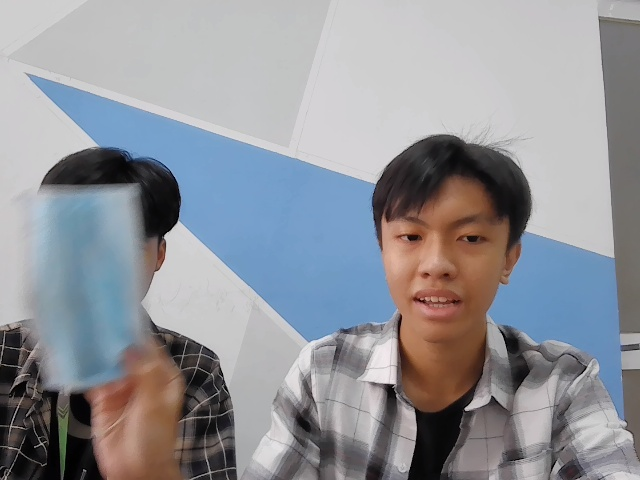human: (373, 132, 537, 335)
mask: (18, 184, 148, 389)
